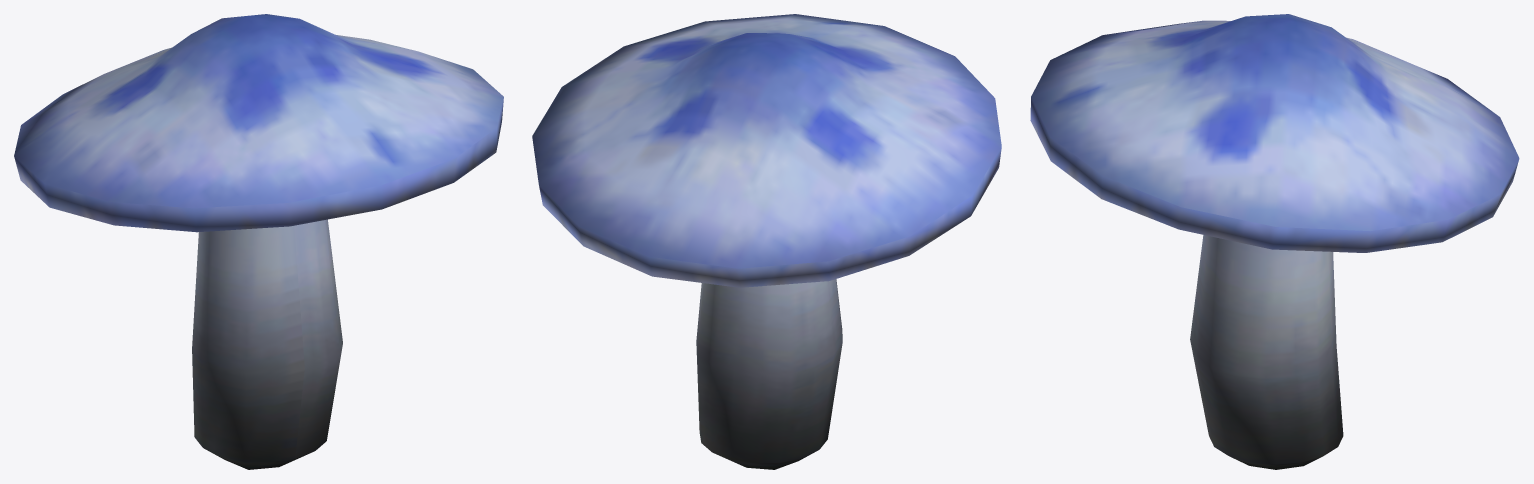
File: INST_TROLLHOLE_SHROOMA2.fbx
3 renders of one model, left to right at view 1: azimuth 30°, elevation 25°; view 2: azimuth 150°, elevation 25°; view 3: azimuth 270°, elevation 25°, orthographic. The views are drawn at different scales.
Parts seen in each view (by area): view 1: INST_TROLLHOLE_SHROOMA2; view 2: INST_TROLLHOLE_SHROOMA2; view 3: INST_TROLLHOLE_SHROOMA2.
Boxes of the visible parts, x1,y1,x2,y2 form: INST_TROLLHOLE_SHROOMA2: [14, 14, 503, 469]; INST_TROLLHOLE_SHROOMA2: [532, 14, 1001, 469]; INST_TROLLHOLE_SHROOMA2: [1030, 14, 1519, 469].
Bounding box in the file's own units: 7963 × 7786 × 7900.
1 material, 1 textured.
